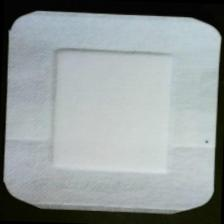Dressing: (1, 10, 223, 217)
F_Body: (193, 121, 217, 151)
